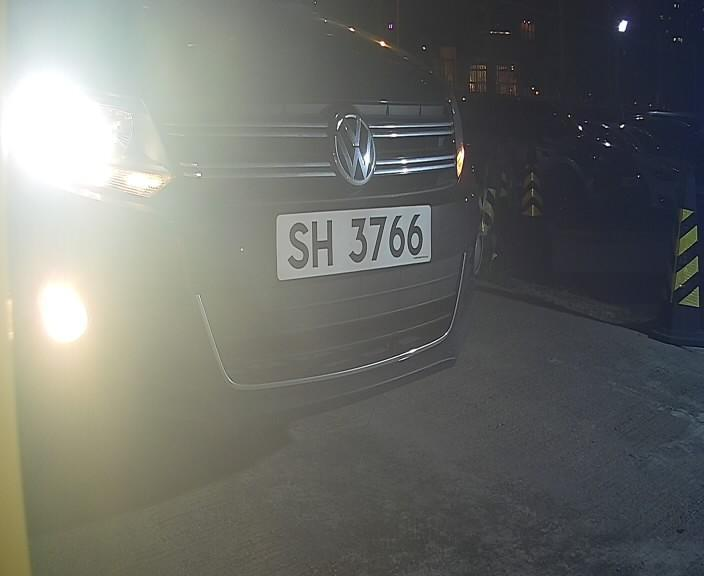License Plate: (271, 191, 441, 289)
